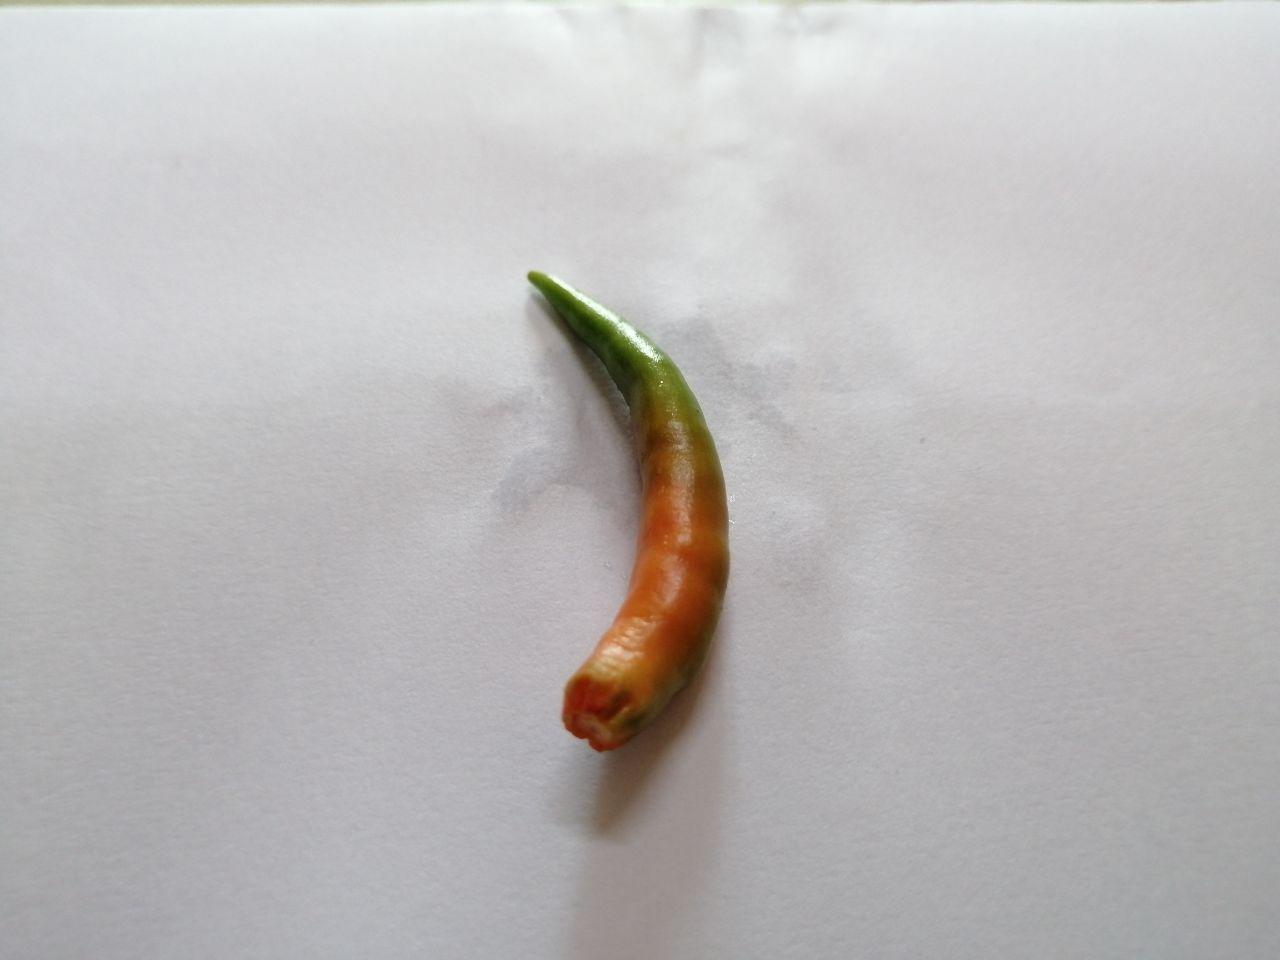lada kuning: (494, 225, 768, 790)
